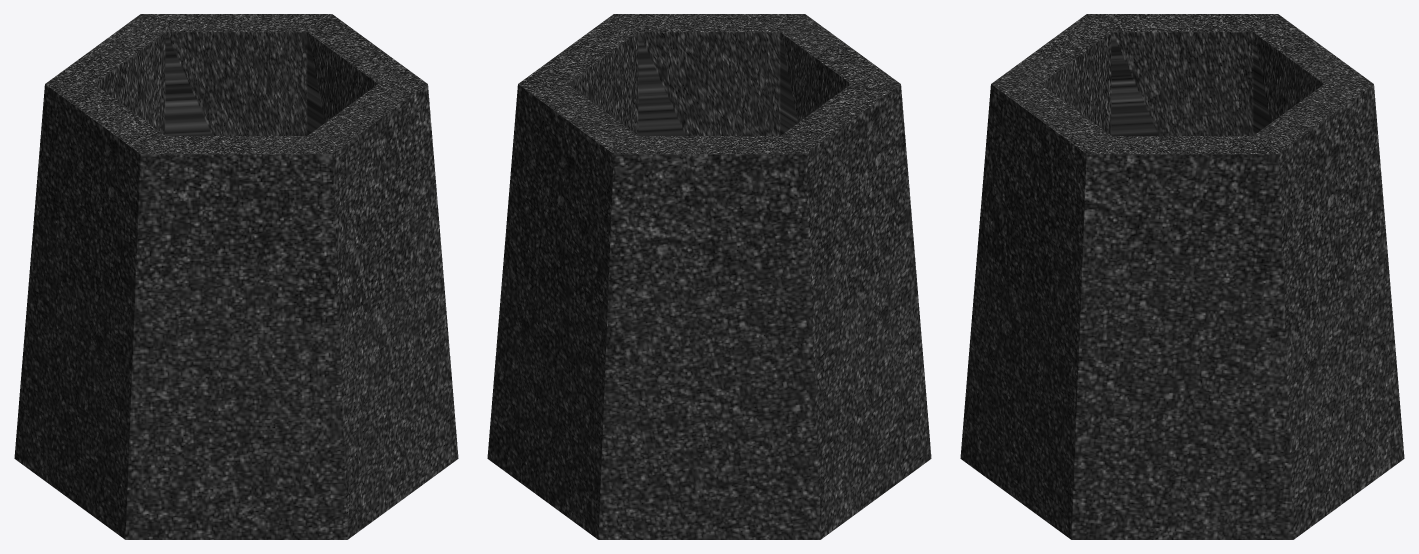
Rendered from park_trash.dae.
3 views of the same model, side by side, from view 1: azimuth 30°, elevation 25°; view 2: azimuth 150°, elevation 25°; view 3: azimuth 270°, elevation 25° (orthographic).
Parts seen in each view (by area): view 1: Circle.002; view 2: Circle.002; view 3: Circle.002.
Part boxes in pixels (box(x1,y1,x2,y2)): Circle.002: box(14, 14, 458, 539); Circle.002: box(487, 14, 931, 539); Circle.002: box(960, 14, 1404, 539).
Size of the model in its own units: 0.6658 by 0.7688 by 0.7157.
1 material, 1 textured.
